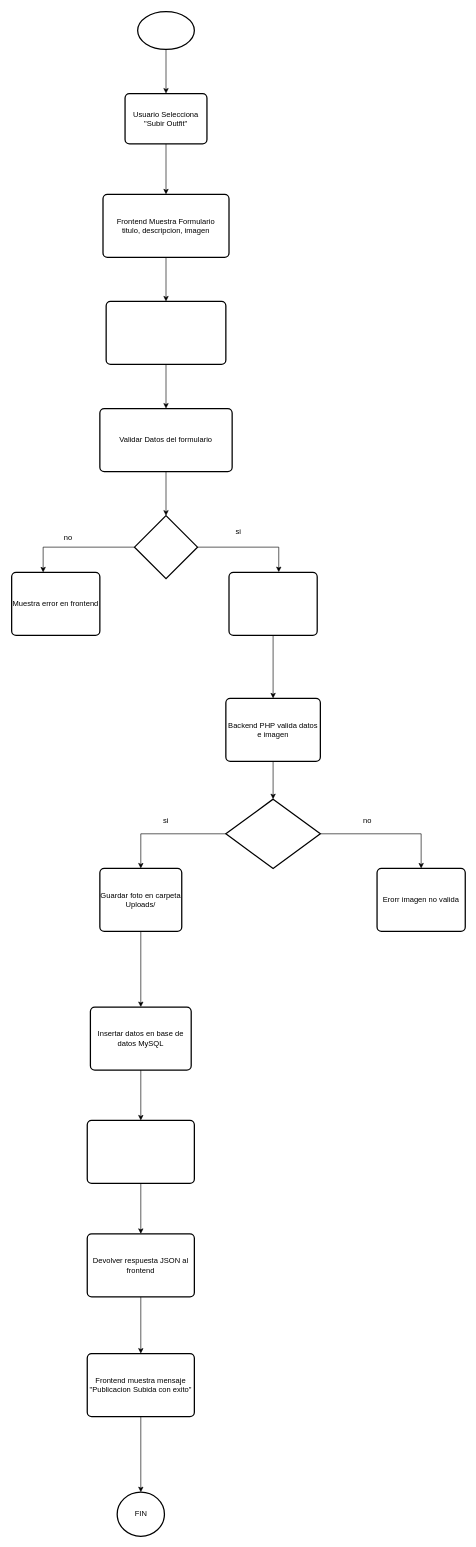
The diagram is 476 pixels wide and 1547 high, and some of its shapes have lost their labels. Each missing label, with the centre of its shape:
Confirmar Insercion: point 140,1152
Enviar datos e imagen a API crear_publicacion.php: point 273,603
Inicio: point 166,30
Usuario completa datos y confirma: point 165,333
¿Datos Validos?: point 166,547
¿Imagen Valida (formato/tamaño)?: point 273,833
